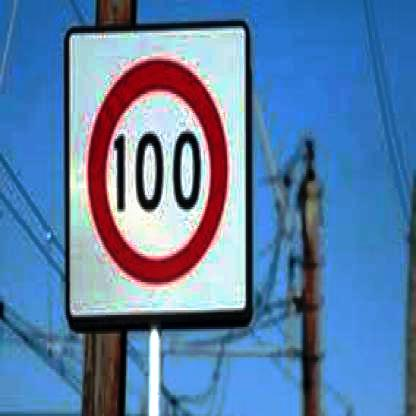Speed Limit -100-: (86, 53, 236, 288)
